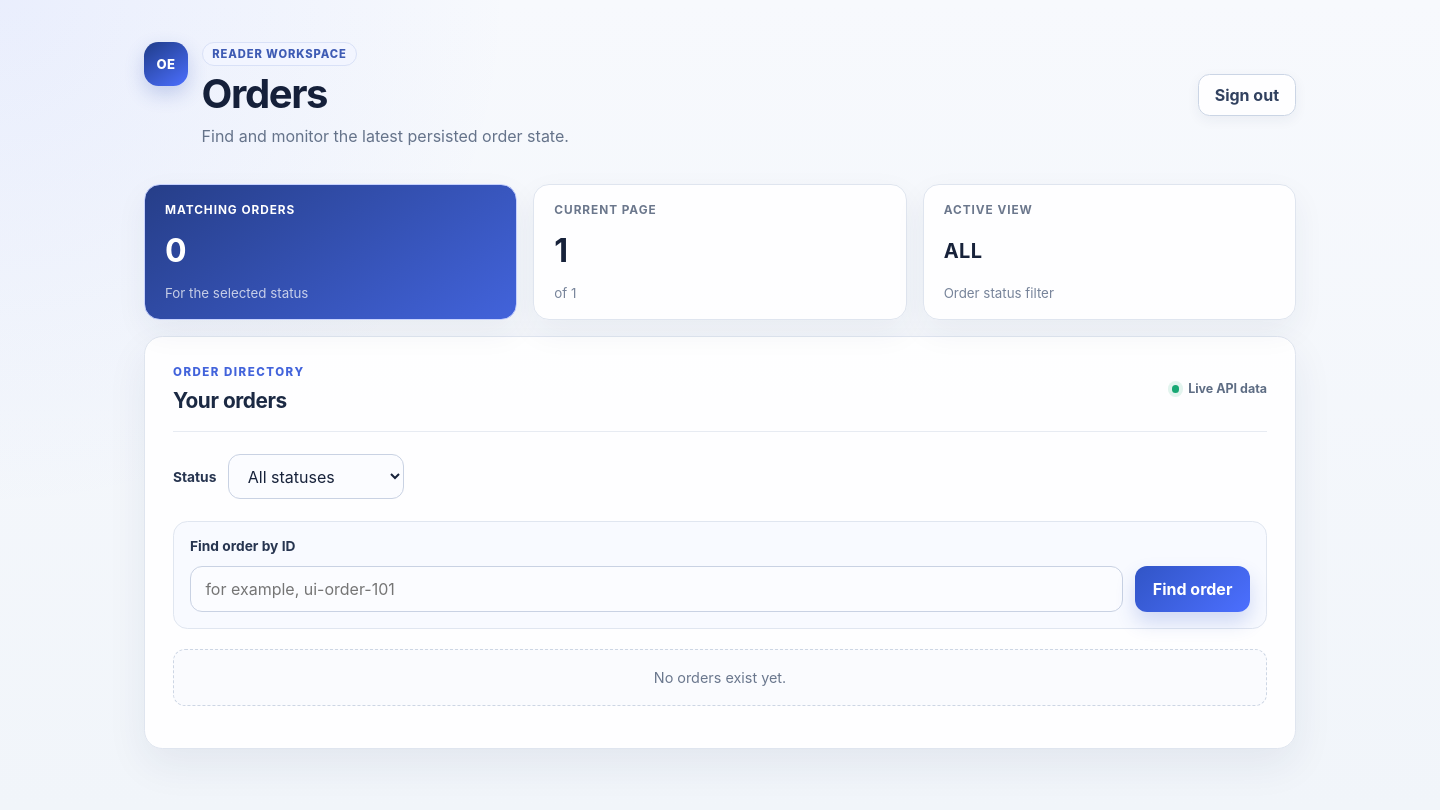
Test: App login › restores a valid saved session and removes it when signing out
Expected: the heading "Orders" is shown, [202,69,327,118]
Click the button "Sign out" at (1247, 95), box [1198,74,1296,116]
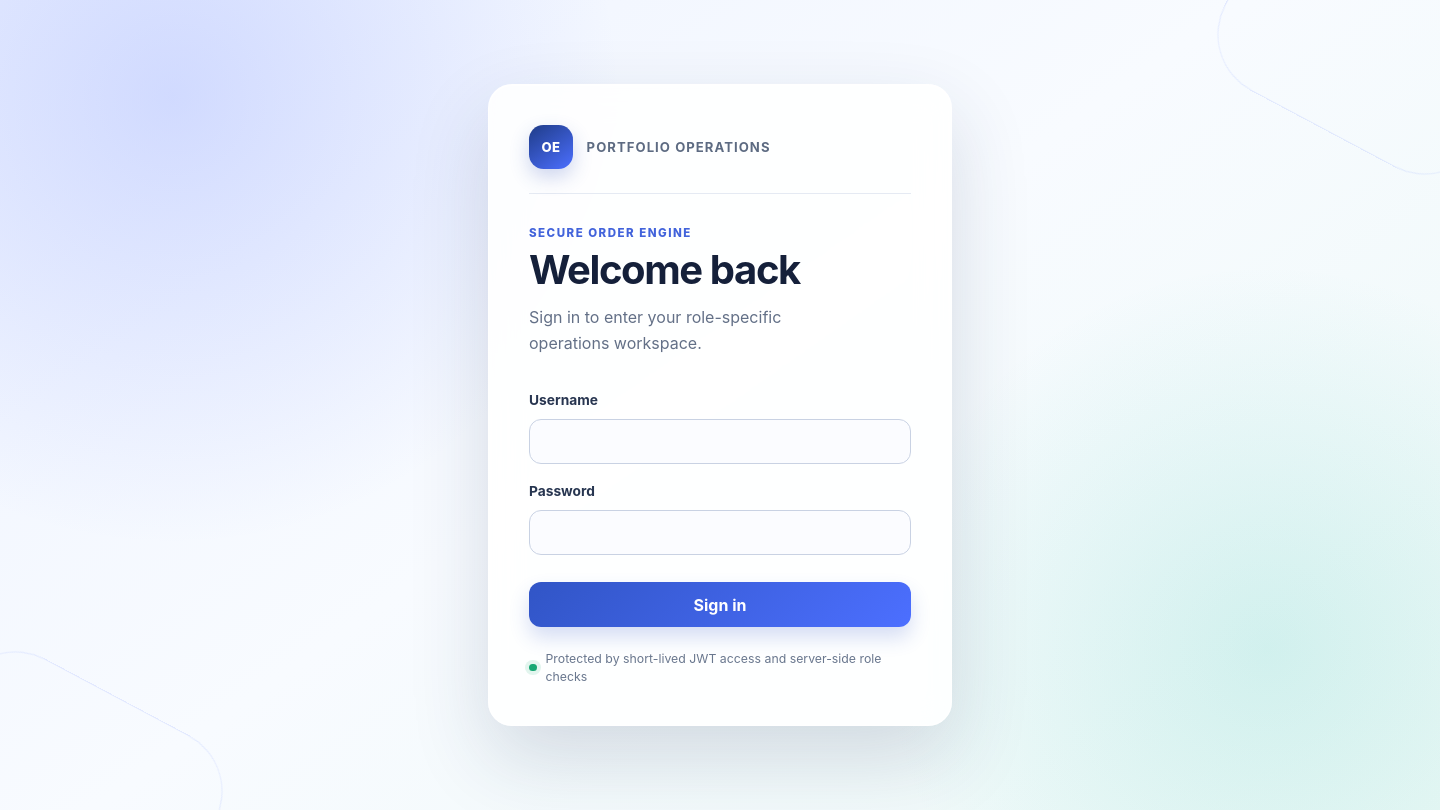
Expected: the heading "Welcome back" is shown, [529,245,800,294]
